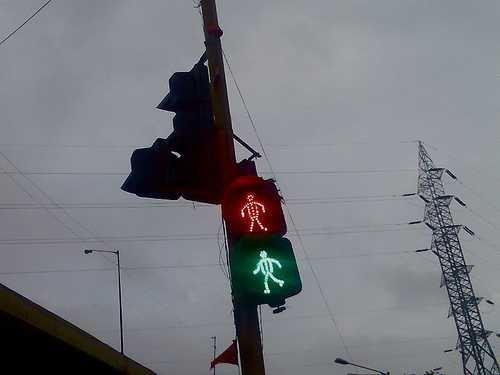green: (242, 239, 294, 308)
red: (222, 180, 284, 238)
